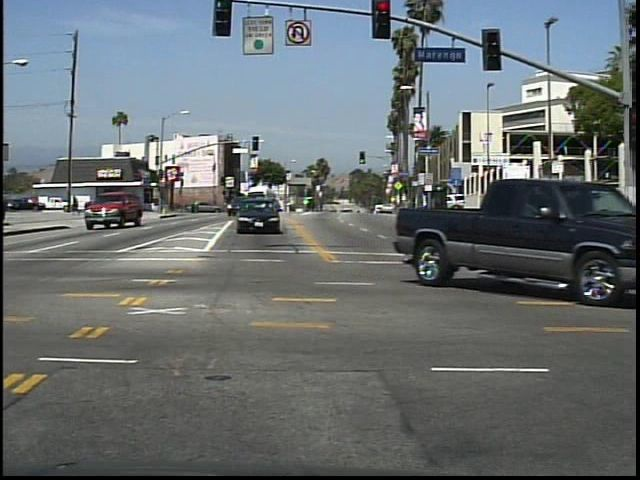person: (69, 192, 84, 218)
